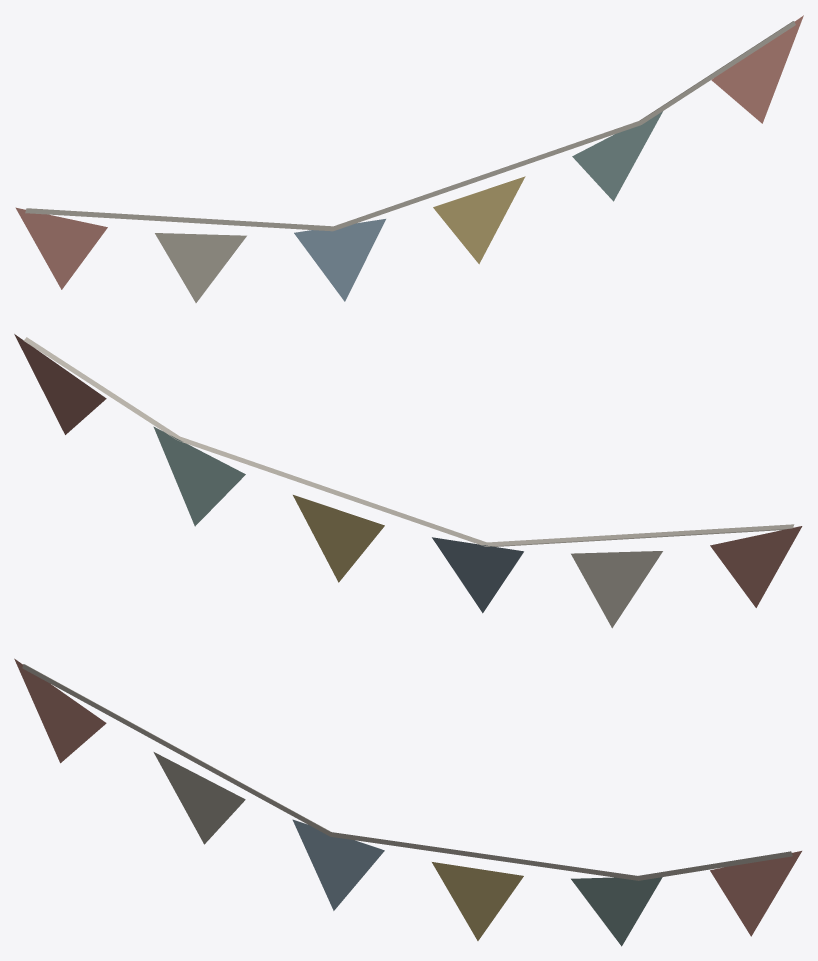
Rendered from bunting.lod2.glb.
3 renders of one model, top to bottom at view 1: azimuth 30°, elevation 25°; view 2: azimuth 150°, elevation 25°; view 3: azimuth 330°, elevation 25°, orthographic.
Bounding box in the file's own units: 4.08 × 0.8432 × 0.0991.
